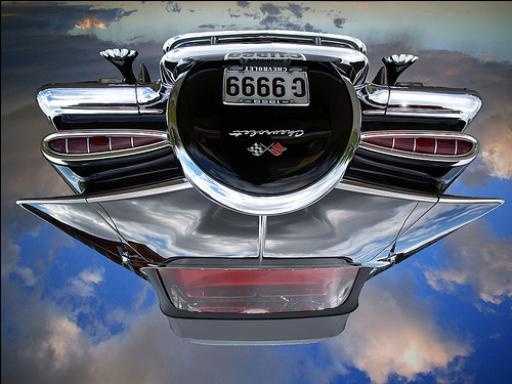Cheetah: (1, 27, 512, 376)
